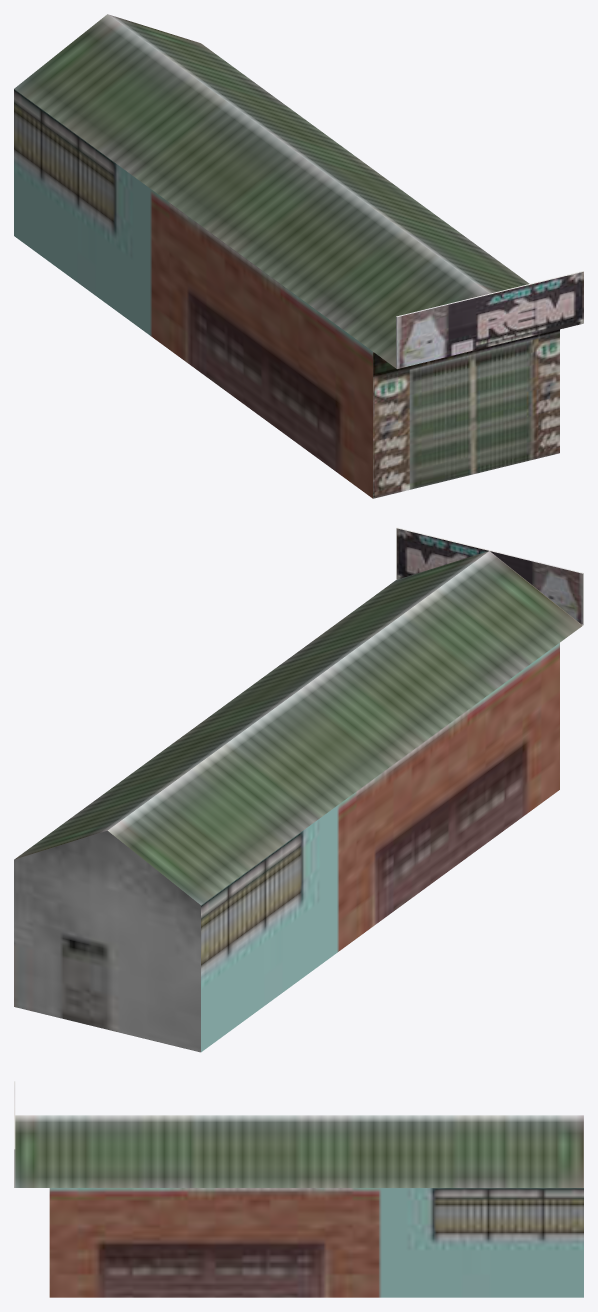
The picture shows the model from 3 angles, top to bottom: view 1: azimuth 30°, elevation 25°; view 2: azimuth 150°, elevation 25°; view 3: azimuth 270°, elevation 25°; orthographic projection. The views are drawn at different scales.
Parts seen in each view (by area): view 1: 5da9216929255d11bc13eb38.001; view 2: 5da9216929255d11bc13eb38.001; view 3: 5da9216929255d11bc13eb38.001.
Part boxes in pixels (bbox=[...]): 5da9216929255d11bc13eb38.001: bbox=[14, 14, 583, 498]; 5da9216929255d11bc13eb38.001: bbox=[14, 527, 583, 1052]; 5da9216929255d11bc13eb38.001: bbox=[14, 1081, 583, 1297].
Bounding box in the file's own units: 5.65 × 5.75 × 20.05.
1 material, 1 textured.
